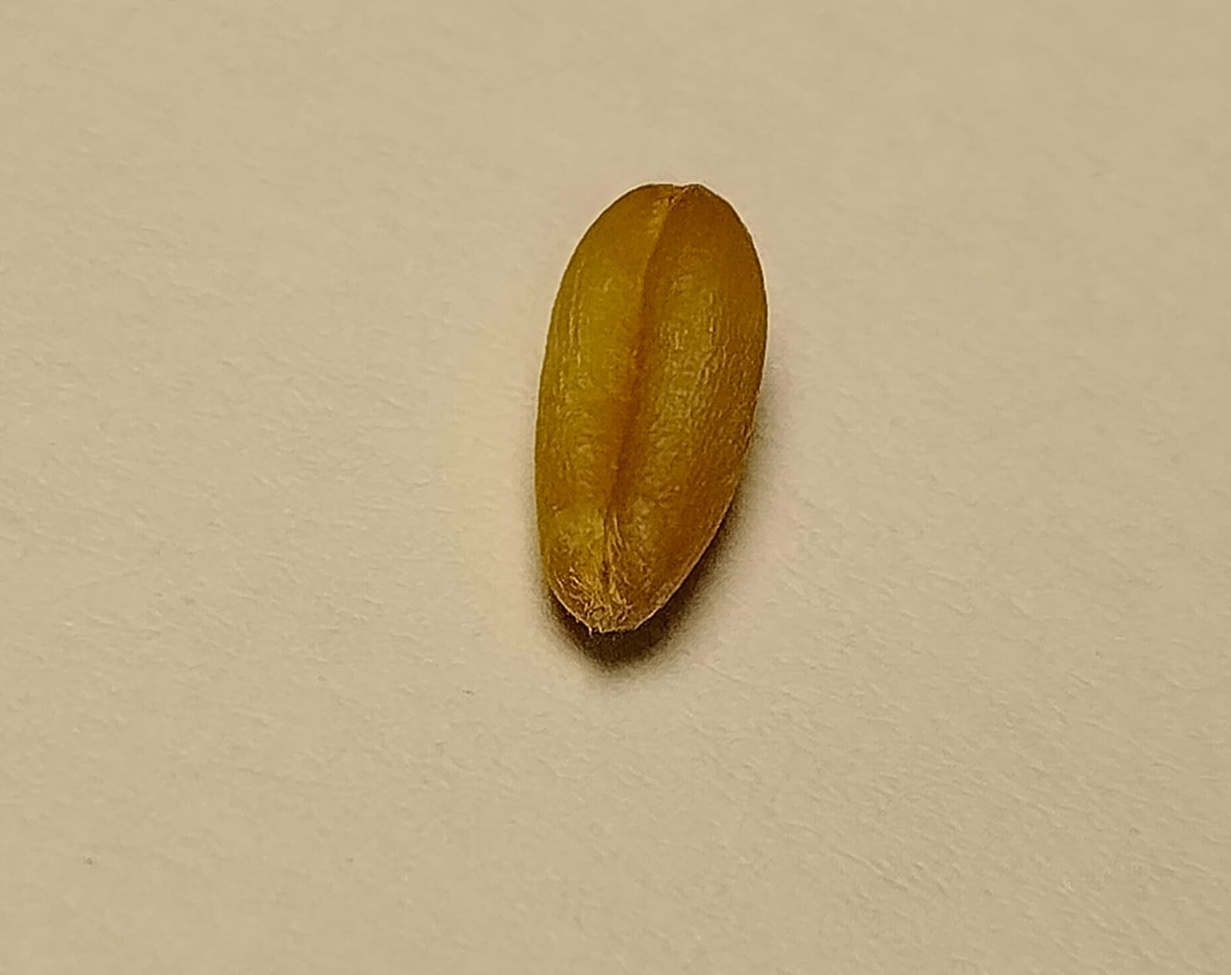healthy: (535, 184, 767, 633)
